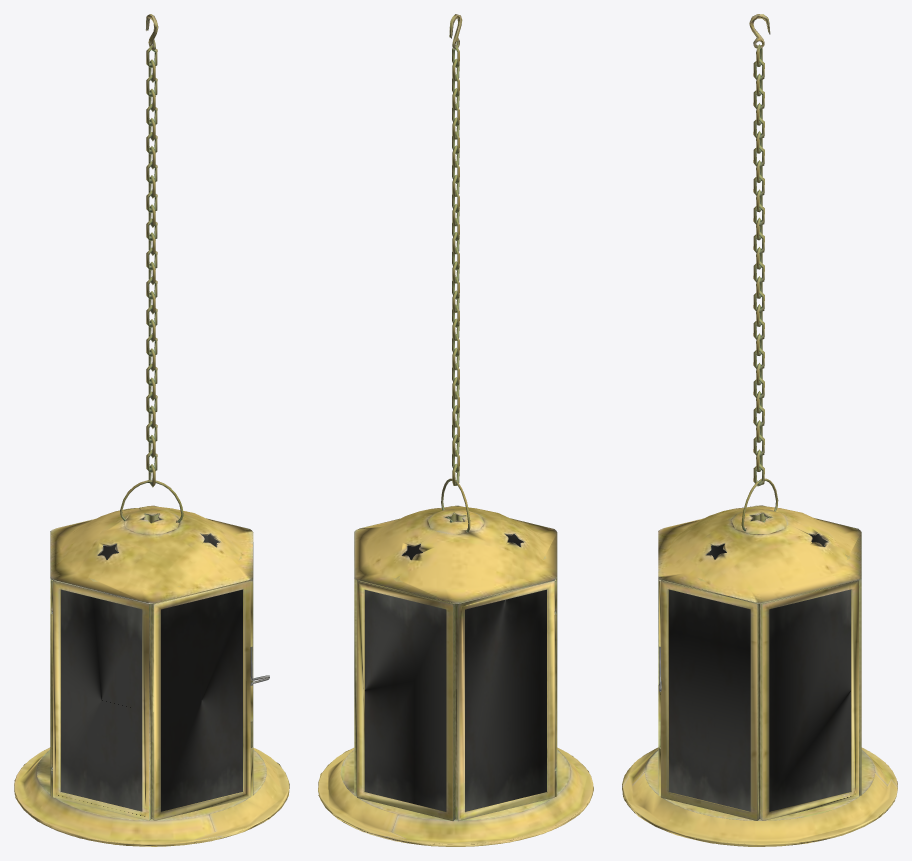
File: brass_diya_lantern.gltf
The picture shows the model from 3 angles, left to right: view 1: azimuth 30°, elevation 25°; view 2: azimuth 150°, elevation 25°; view 3: azimuth 270°, elevation 25°; orthographic projection.
Visible parts, largest first — view 1: brass_diya_lantern, brass_diya_lantern_chain; view 2: brass_diya_lantern, brass_diya_lantern_chain; view 3: brass_diya_lantern, brass_diya_lantern_chain.
Boxes of the visible parts, left/top/right/bottom form: brass_diya_lantern: left=14, top=505, right=289, bottom=846; brass_diya_lantern_chain: left=145, top=14, right=158, bottom=487; brass_diya_lantern: left=318, top=505, right=593, bottom=846; brass_diya_lantern_chain: left=449, top=14, right=462, bottom=485; brass_diya_lantern: left=622, top=505, right=897, bottom=846; brass_diya_lantern_chain: left=749, top=14, right=770, bottom=486.
Bounding box in the file's own units: 0.123 × 0.3808 × 0.123.
4 materials, 4 textured.
